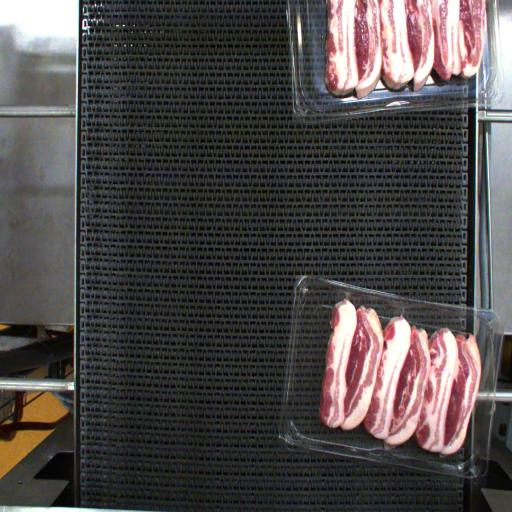packaging-error: (338, 284, 360, 316), (395, 297, 412, 321)
